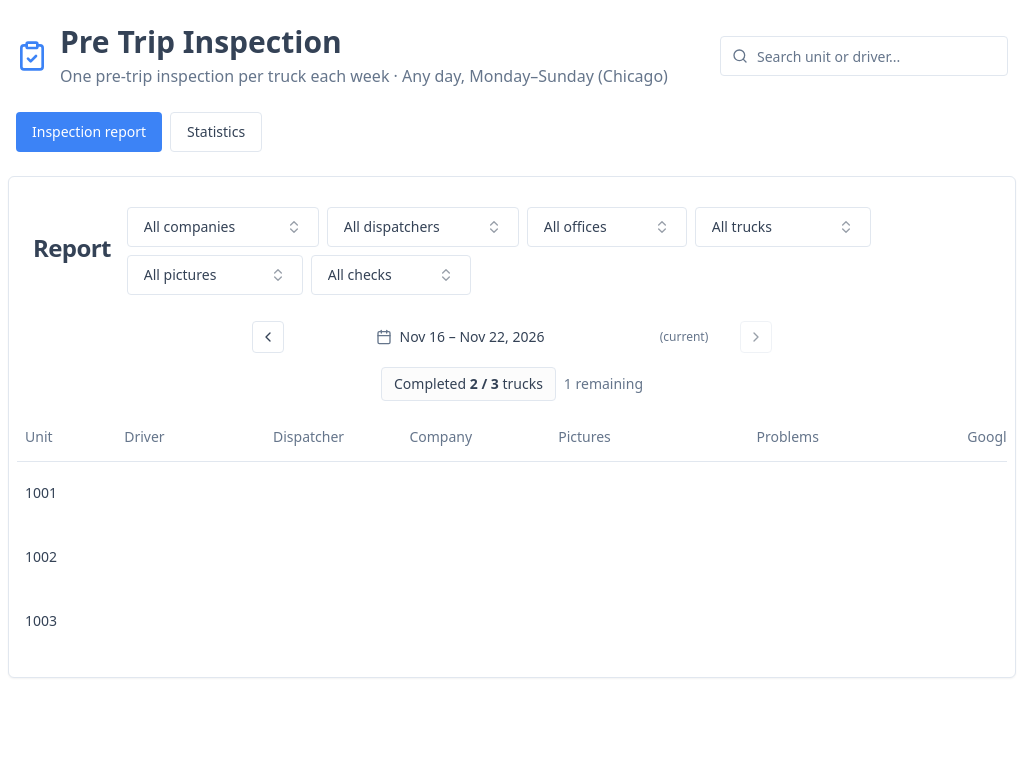
it: recomputes completion when selecting another inspection week
The width and height of the screenshot is (1036, 768).
Click the button titled "Previous inspection week" at x=268, y=337, box left=252, top=321, right=284, bottom=353
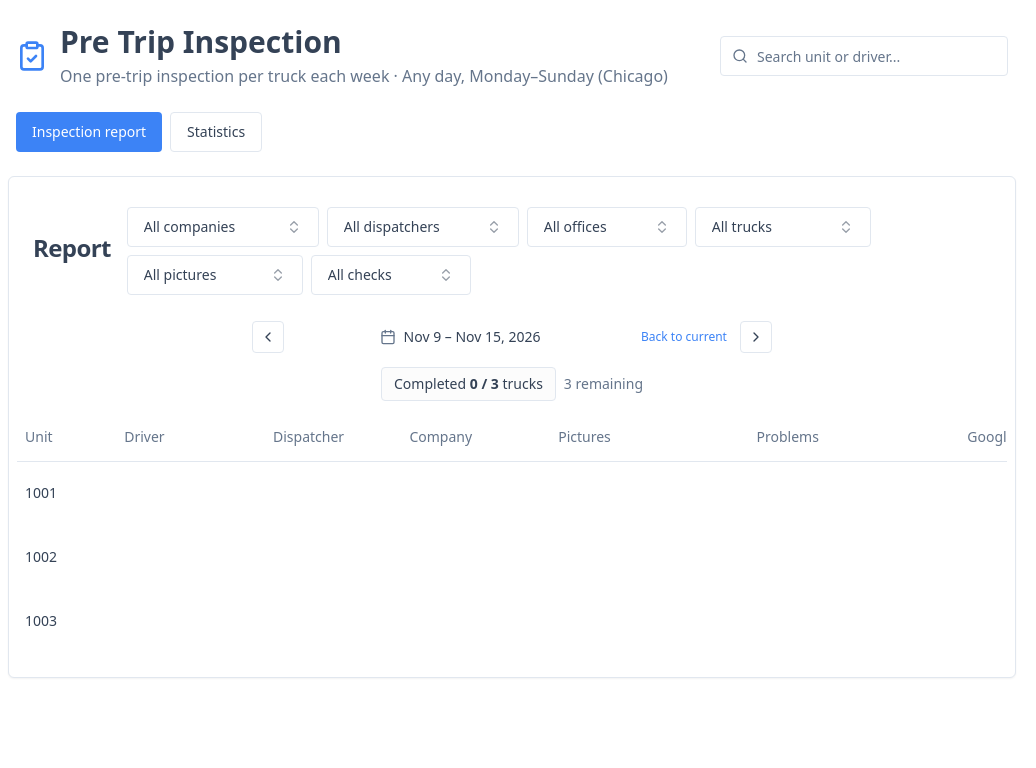
Expected: the message shows "Completed 0 / 3 trucks", left=381, top=367, right=643, bottom=401
Expected: the message shows "3 remaining", left=381, top=367, right=643, bottom=401
